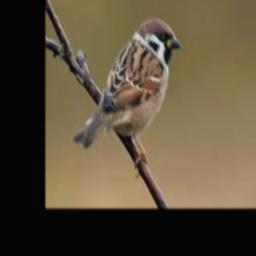Sparrow: (73, 19, 180, 172)
